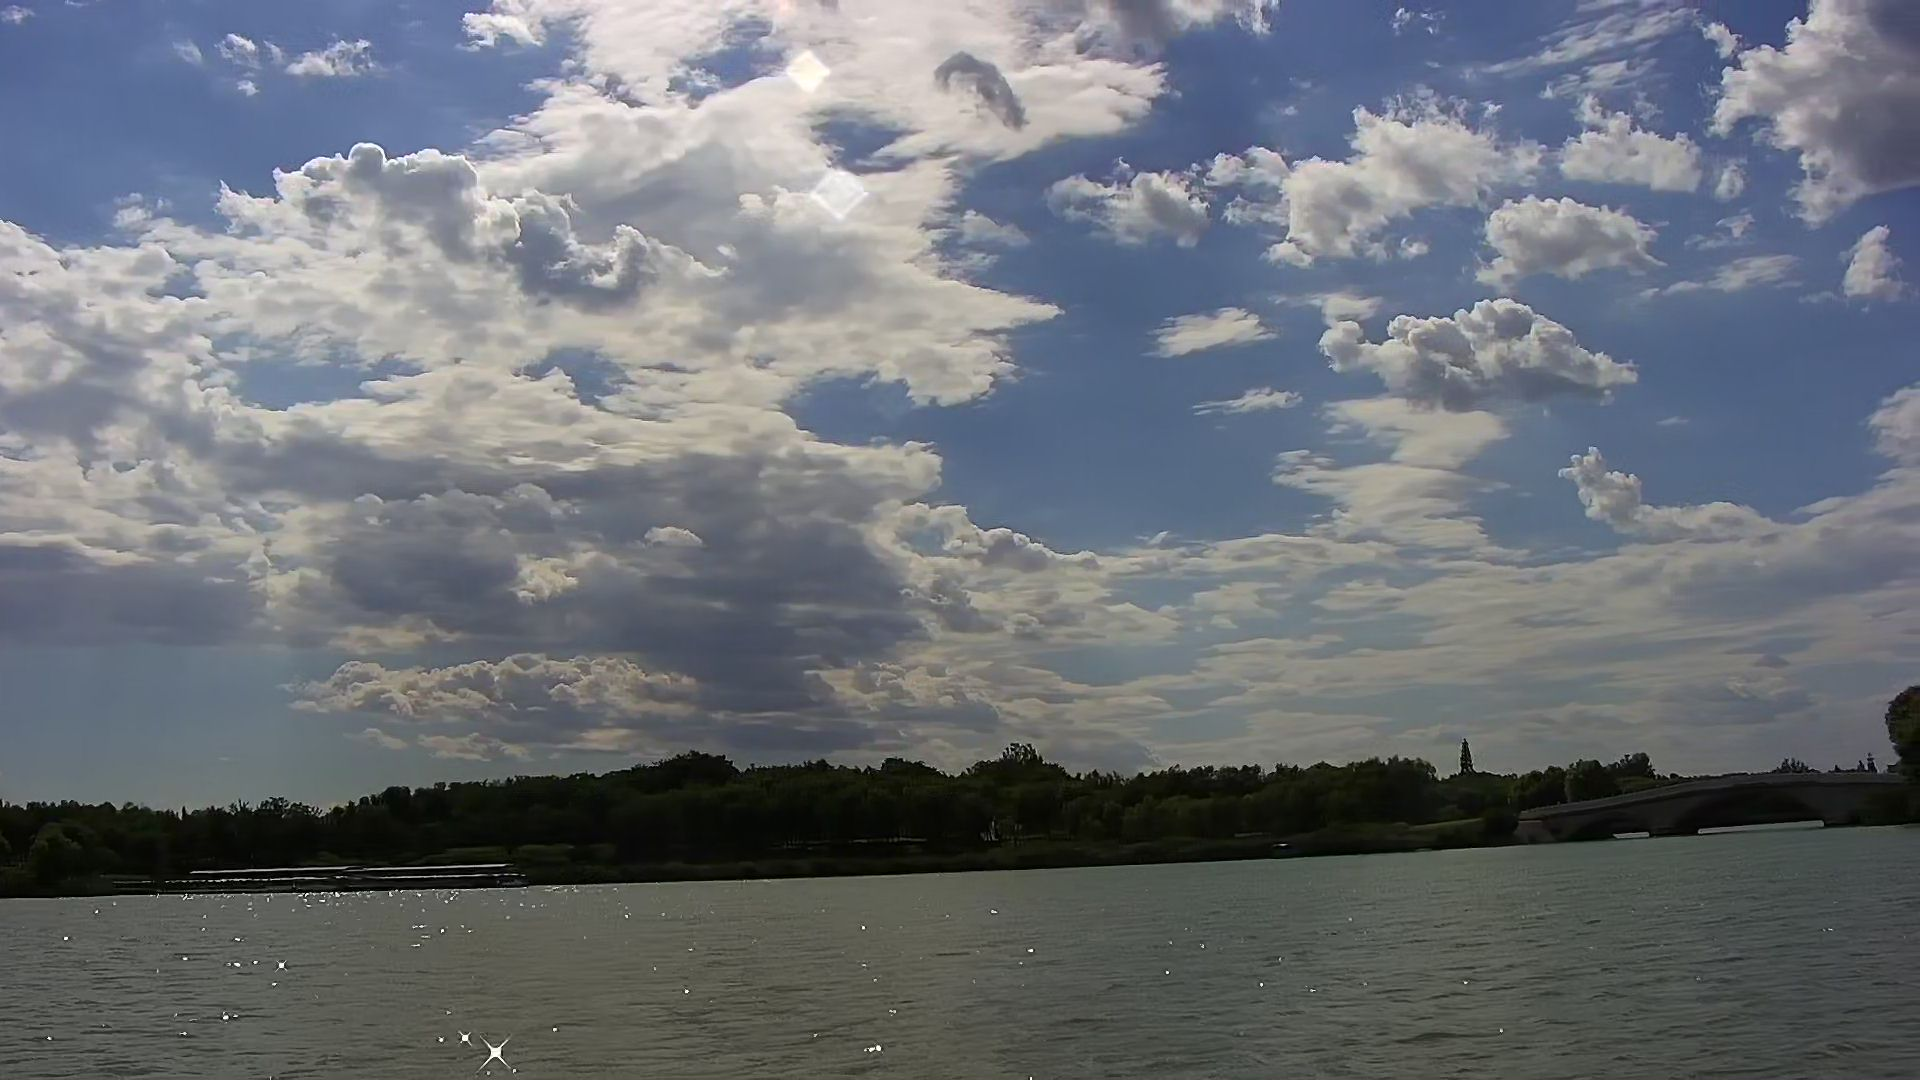bridge: (1511, 765, 1920, 843)
harbor: (185, 858, 518, 895)
